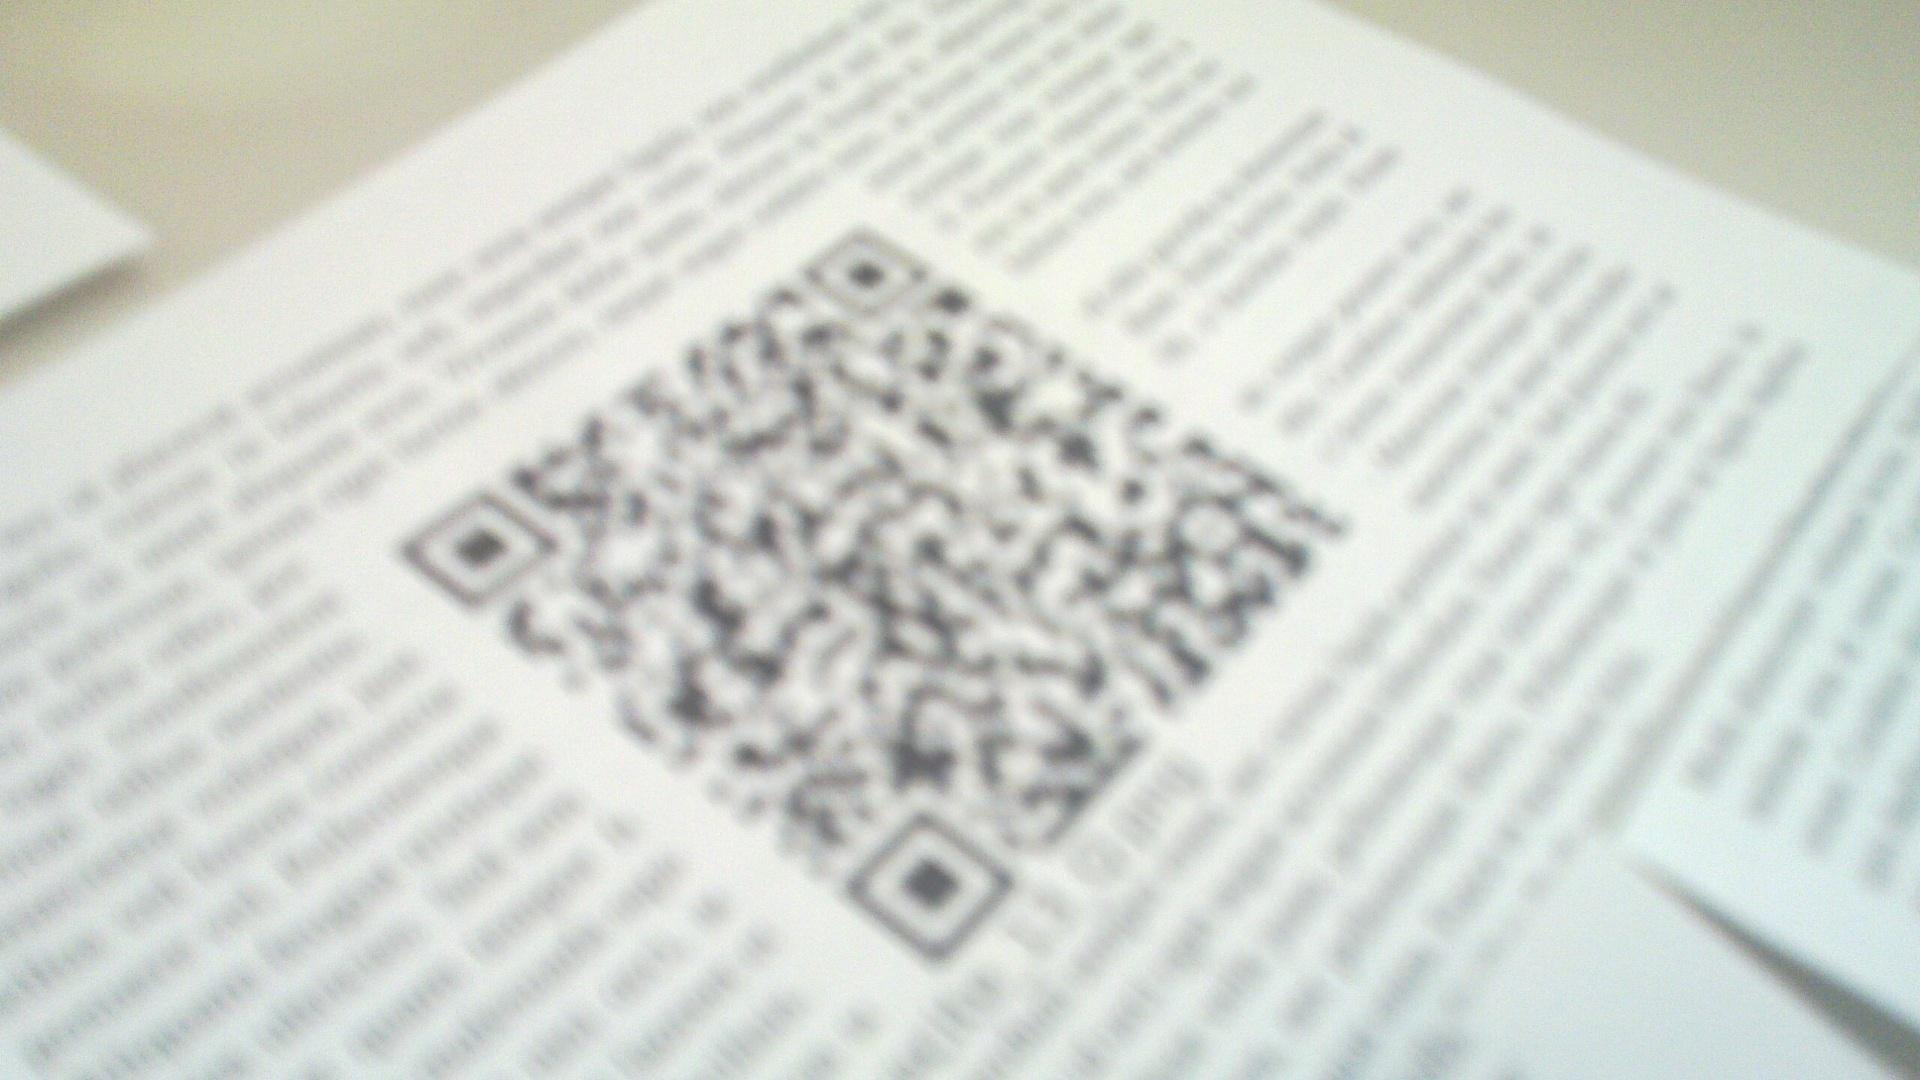Finder pattern: (837, 804, 1011, 963), (402, 495, 556, 607), (802, 225, 934, 314)
